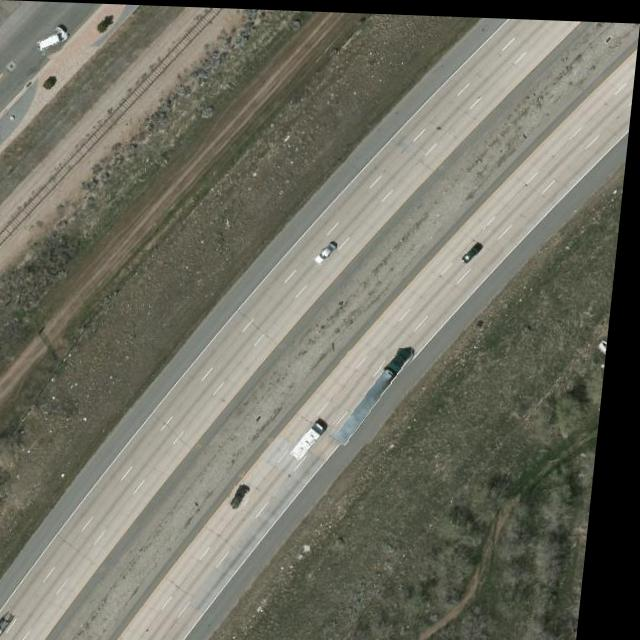vehicle: (338, 344, 424, 443), (34, 25, 69, 60), (237, 482, 261, 508), (319, 239, 343, 263), (468, 239, 488, 262)
